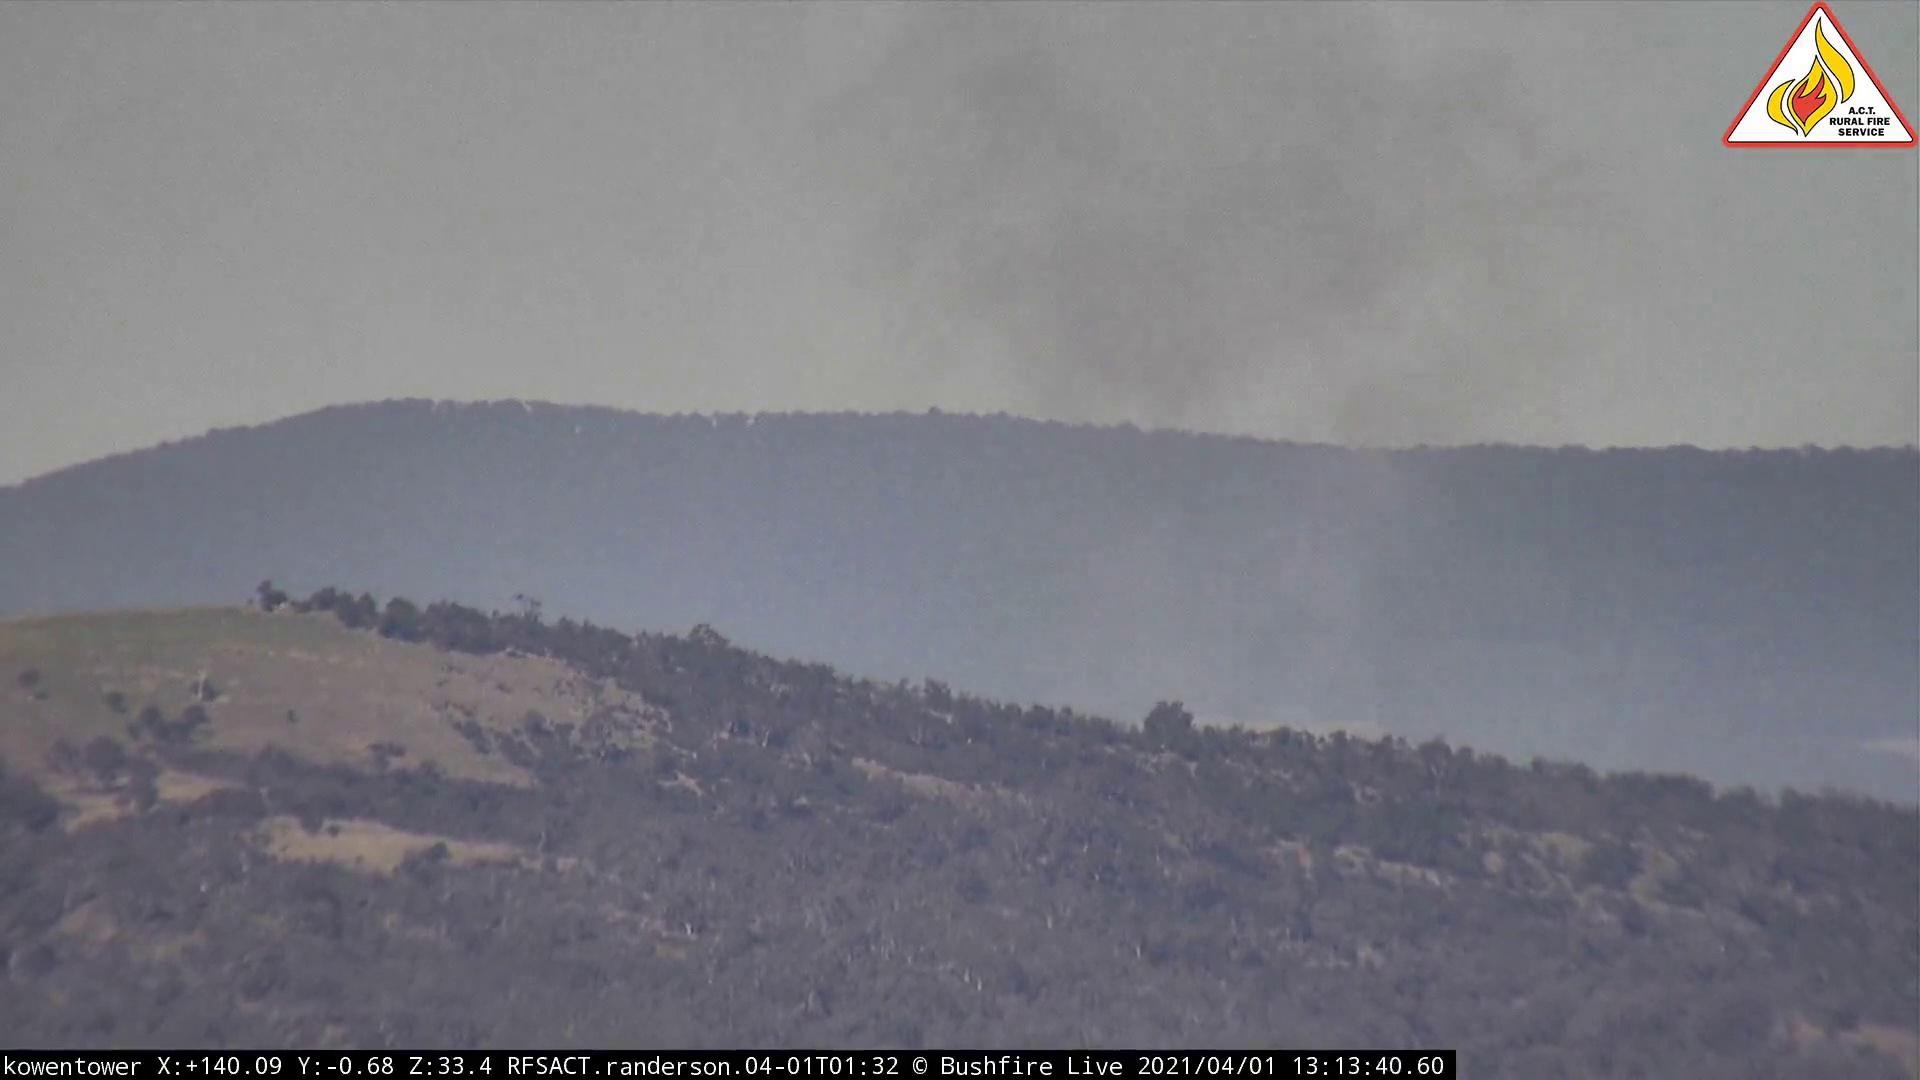instance_salient_object: (785, 3, 1706, 818)
